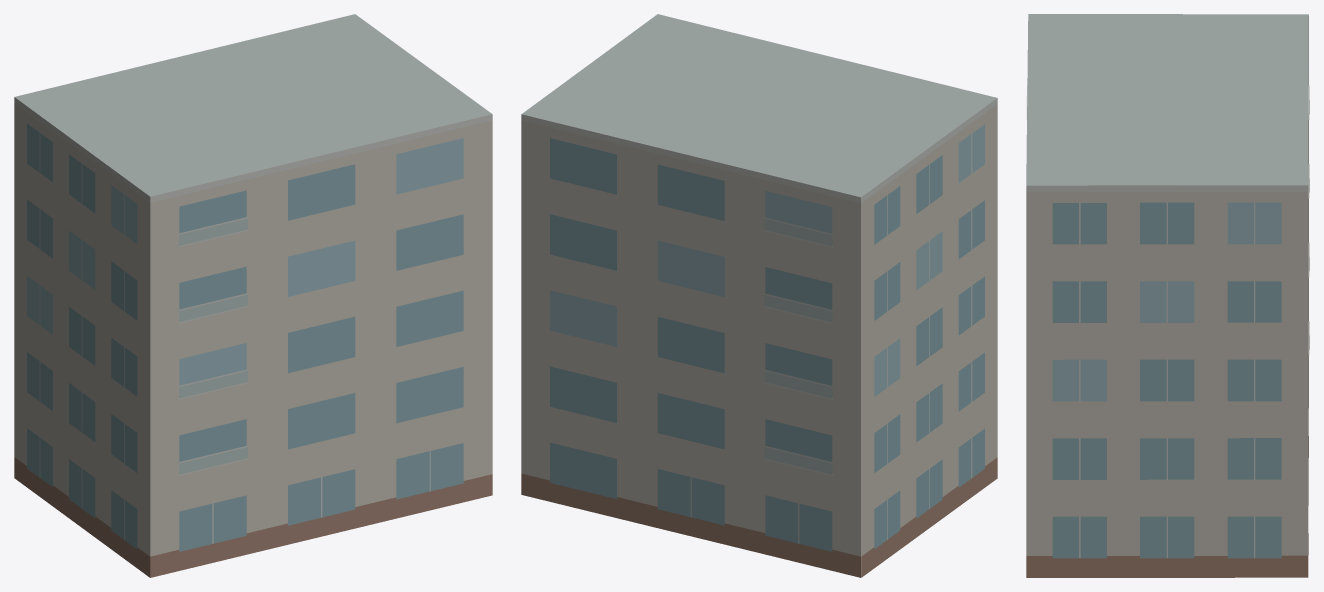
Rendered from survey-upis-32877404.glb.
3 renders of one model, left to right at view 1: azimuth 30°, elevation 25°; view 2: azimuth 150°, elevation 25°; view 3: azimuth 270°, elevation 25°, orthographic. The views are drawn at different scales.
Parts seen in each view (by area): view 1: survey-upis-32877404.tmp; view 2: survey-upis-32877404.tmp; view 3: survey-upis-32877404.tmp.
Boxes of the visible parts, <box> form: survey-upis-32877404.tmp: <box>14,14,492,577</box>; survey-upis-32877404.tmp: <box>521,14,997,577</box>; survey-upis-32877404.tmp: <box>1026,14,1309,577</box>.
Bounding box in the file's own units: 14.31 × 15.25 × 10.
